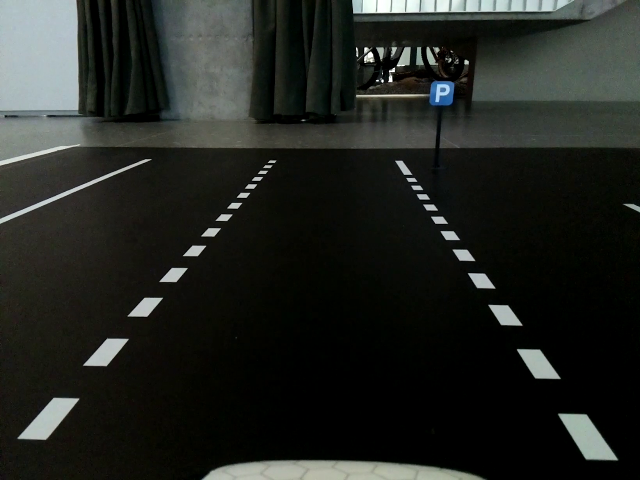park: (431, 82, 454, 106)
